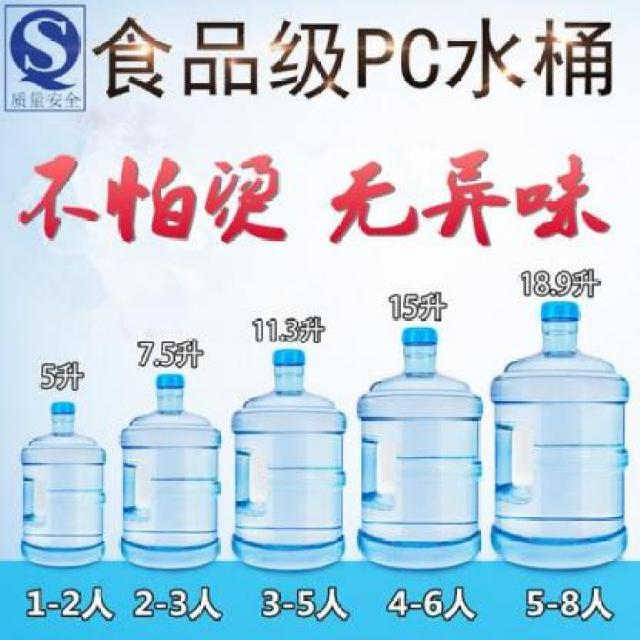coolerbottle: (486, 297, 630, 575), (351, 323, 489, 580), (229, 347, 352, 576), (115, 368, 223, 573), (15, 397, 111, 572)
